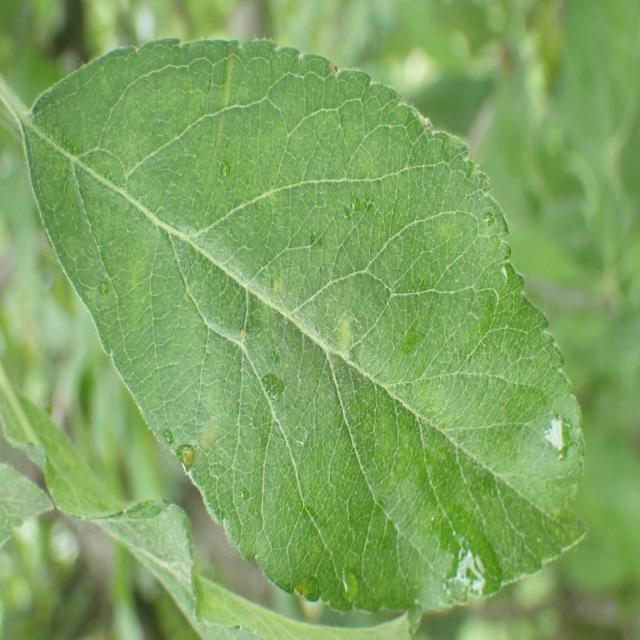scab: (43, 60, 540, 513)
